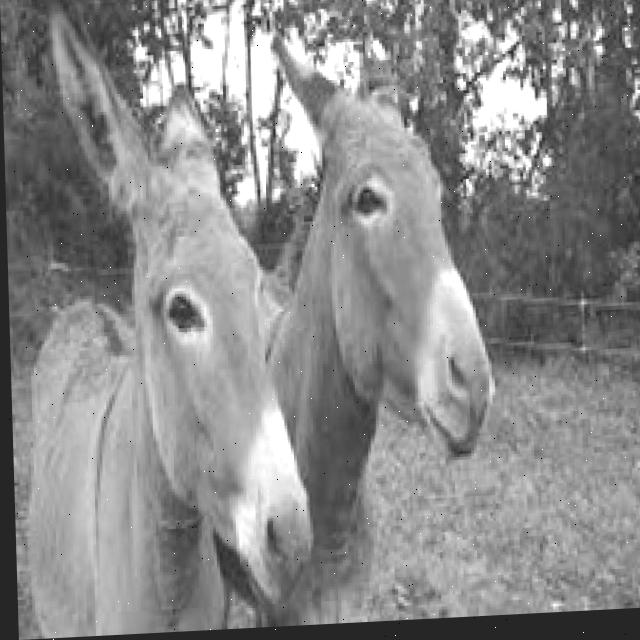Donkey: (9, 0, 316, 637), (199, 21, 502, 627)
